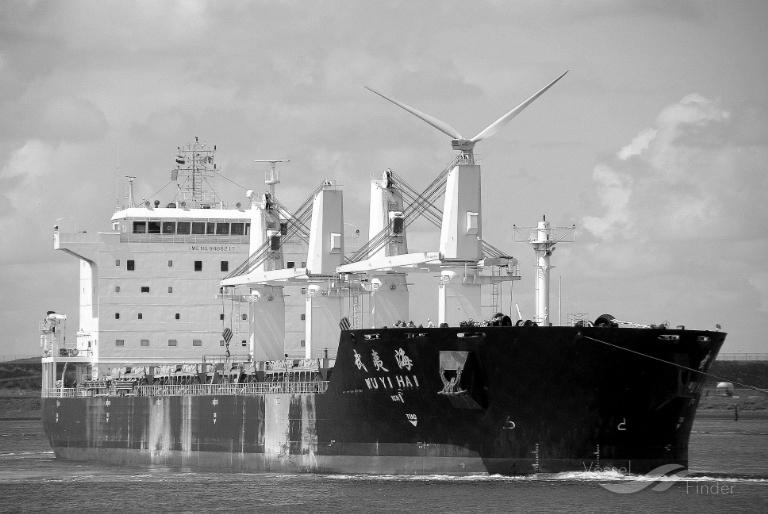OCR: (354, 374, 423, 394)
